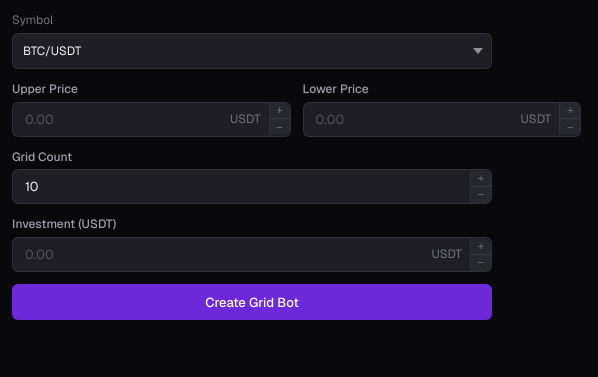
GridBotForm › shows validation error when upper price <= lower price
In the field labelled "Upper Price": (118, 119) [13,103,222,136], type "50000"
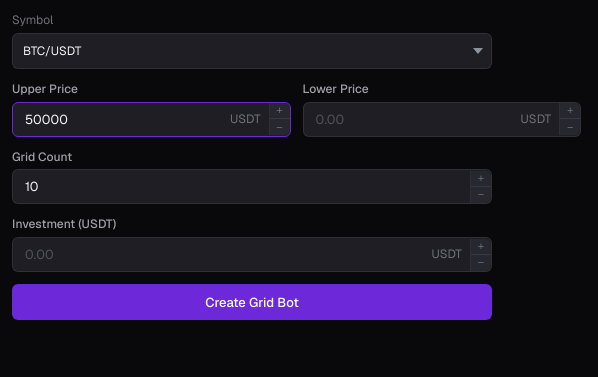
In the field labelled "Lower Price": (408, 119) [304,103,513,136], type "60000"
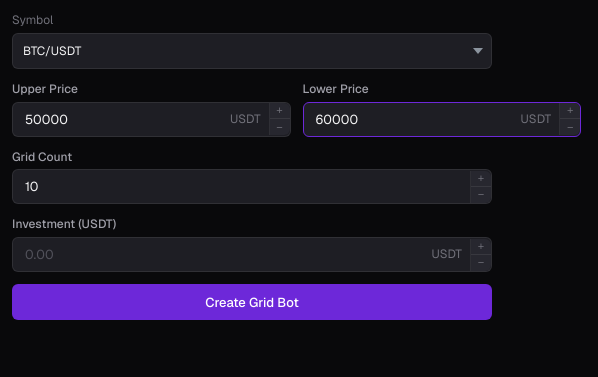
Click the button "Create Grid Bot": (252, 302) [12,284,492,320]
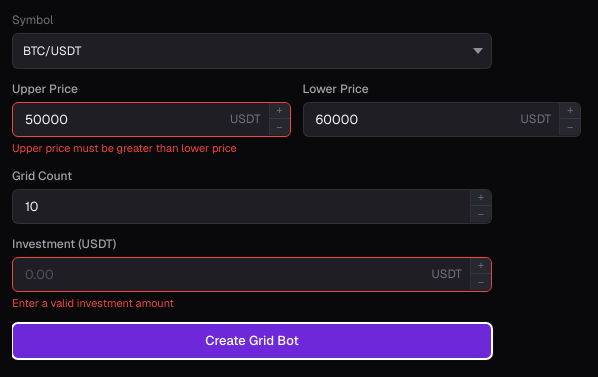
Check: the text "Upper price must be greater than lower price" is shown, box [12,141,237,155]
